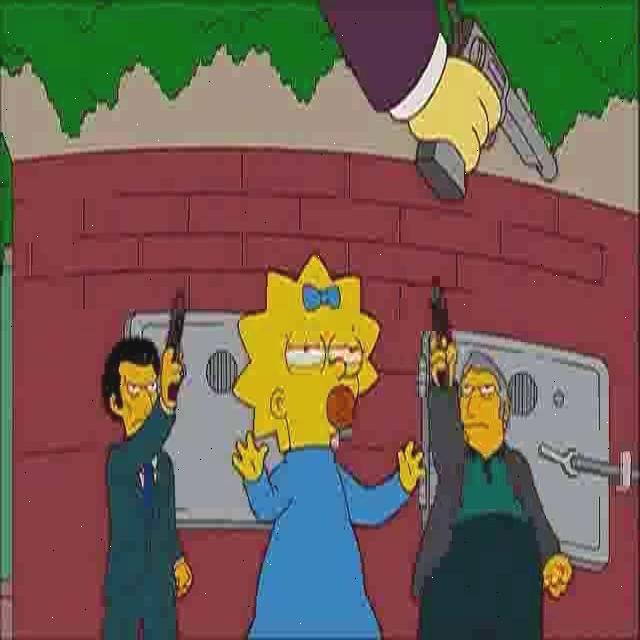Maggie Simpson: (232, 248, 386, 454)
